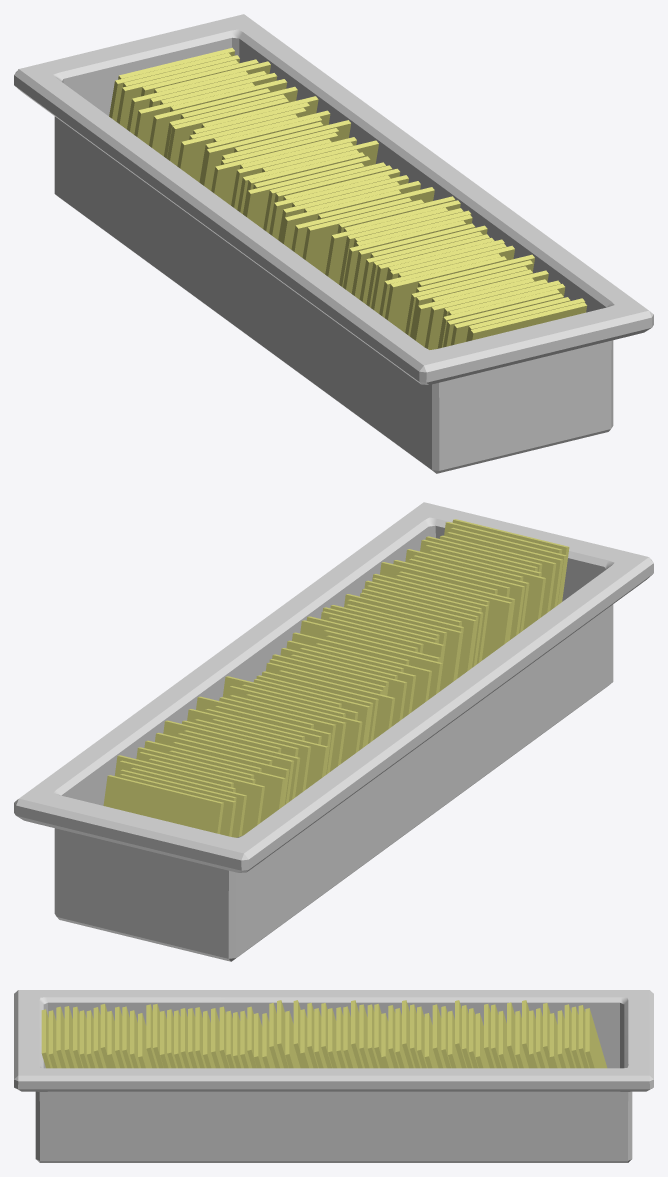
The model's file is hotelPanCheese.fbx.
3 views of the same model, one above another, from view 1: azimuth 30°, elevation 25°; view 2: azimuth 150°, elevation 25°; view 3: azimuth 270°, elevation 25° (orthographic). The views are drawn at different scales.
Visible parts, largest first — view 1: hotelPanCheese; view 2: hotelPanCheese; view 3: hotelPanCheese.
Boxes of the visible parts, x1,y1,x2,y2 form: hotelPanCheese: (14,14,653,473); hotelPanCheese: (14,502,653,961); hotelPanCheese: (14,990,653,1162).
Bounding box in the file's own units: 16.5 × 8.86 × 50.
